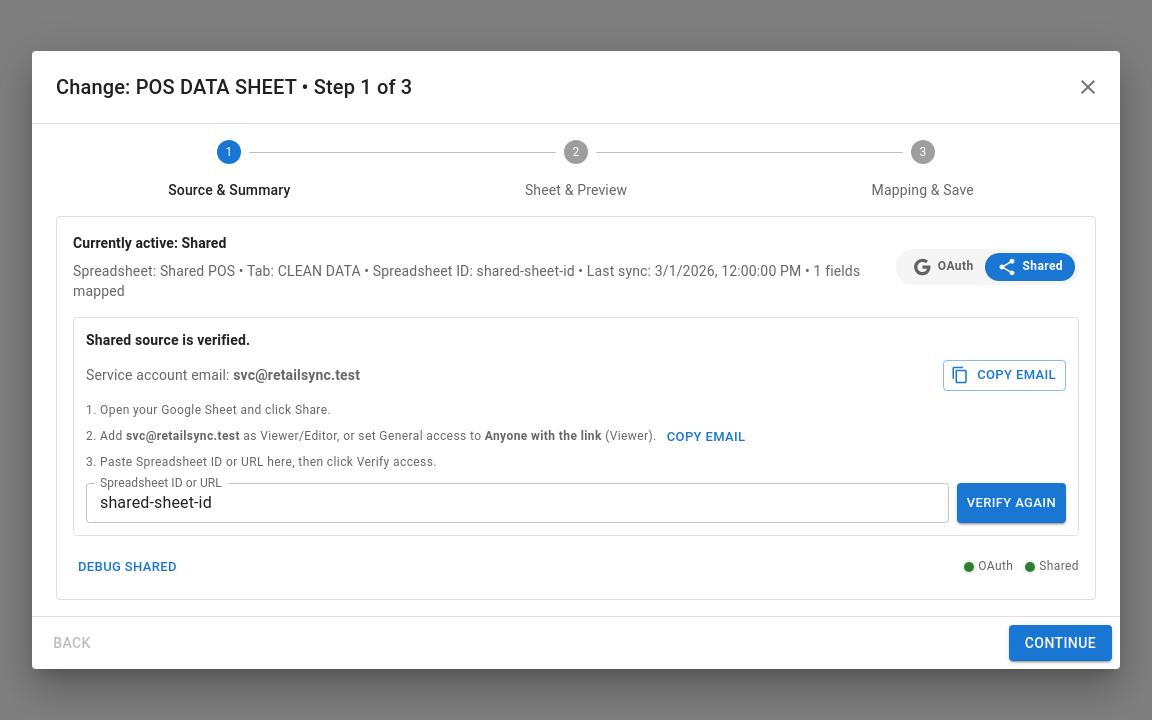
GoogleSheetsSetupInline › does not render source selector in wizard step 2
The image size is (1152, 720).
Click the button "Continue".
click(1060, 643)  # box [1009,625,1112,661]
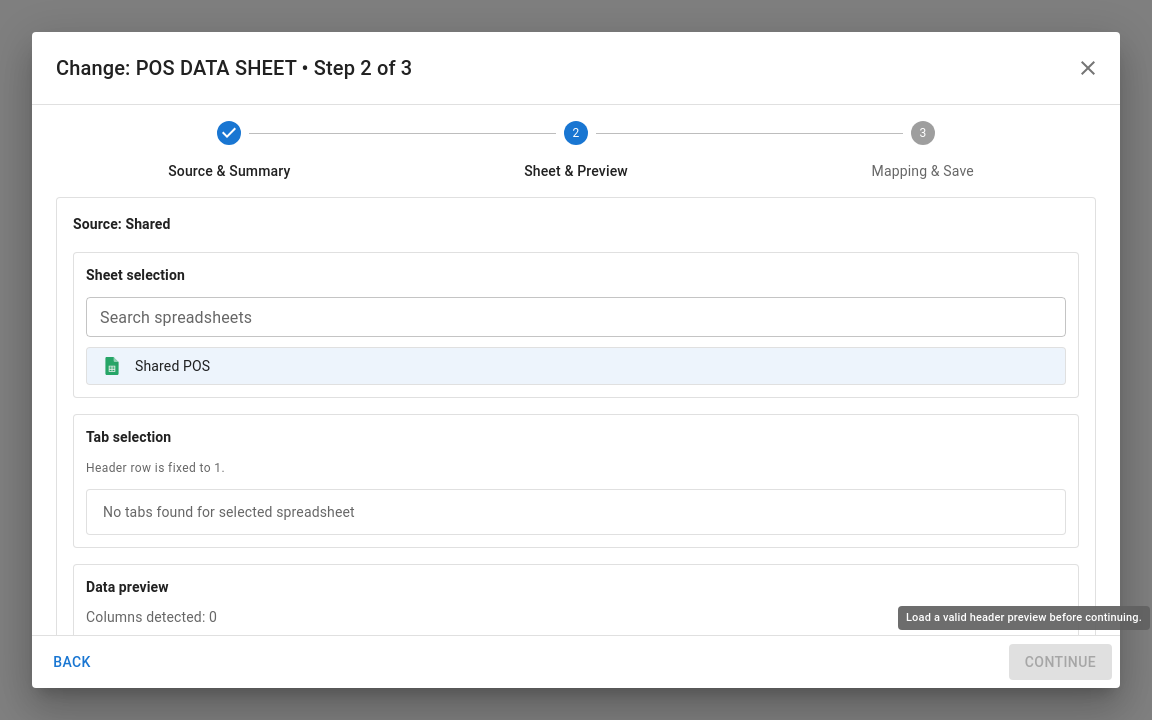
Result: the text "Source: Shared" is shown at [56,197,1096,636]
